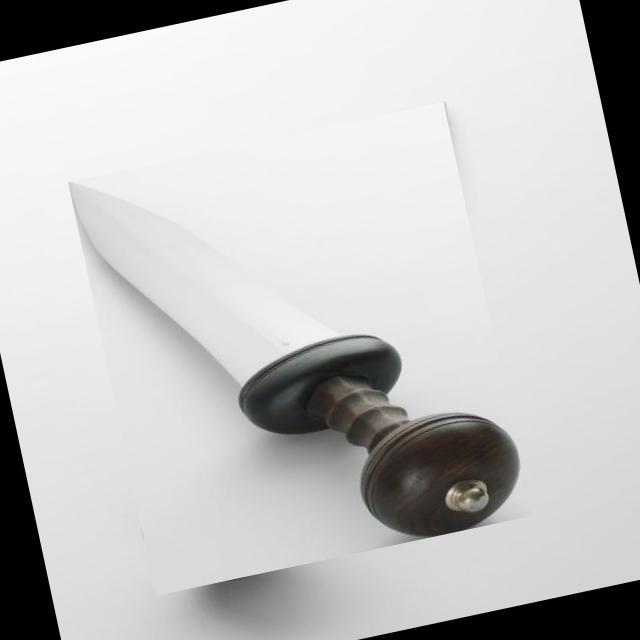Knife: (70, 182, 520, 535)
